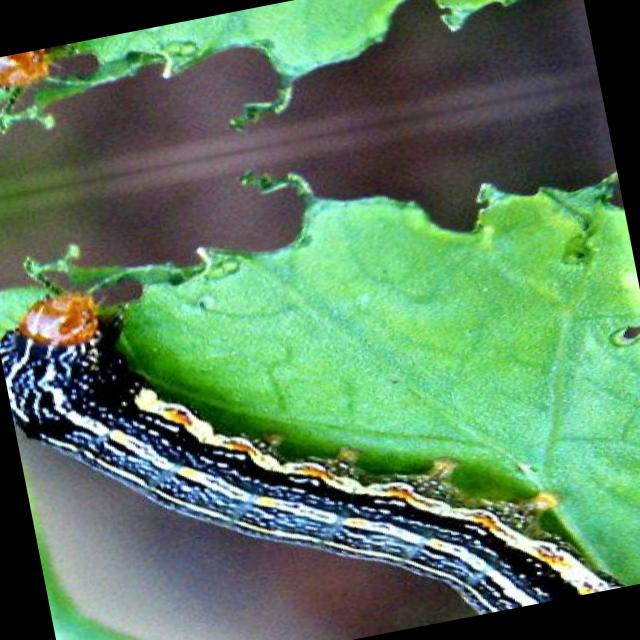Armyworm: (1, 206, 616, 640)
